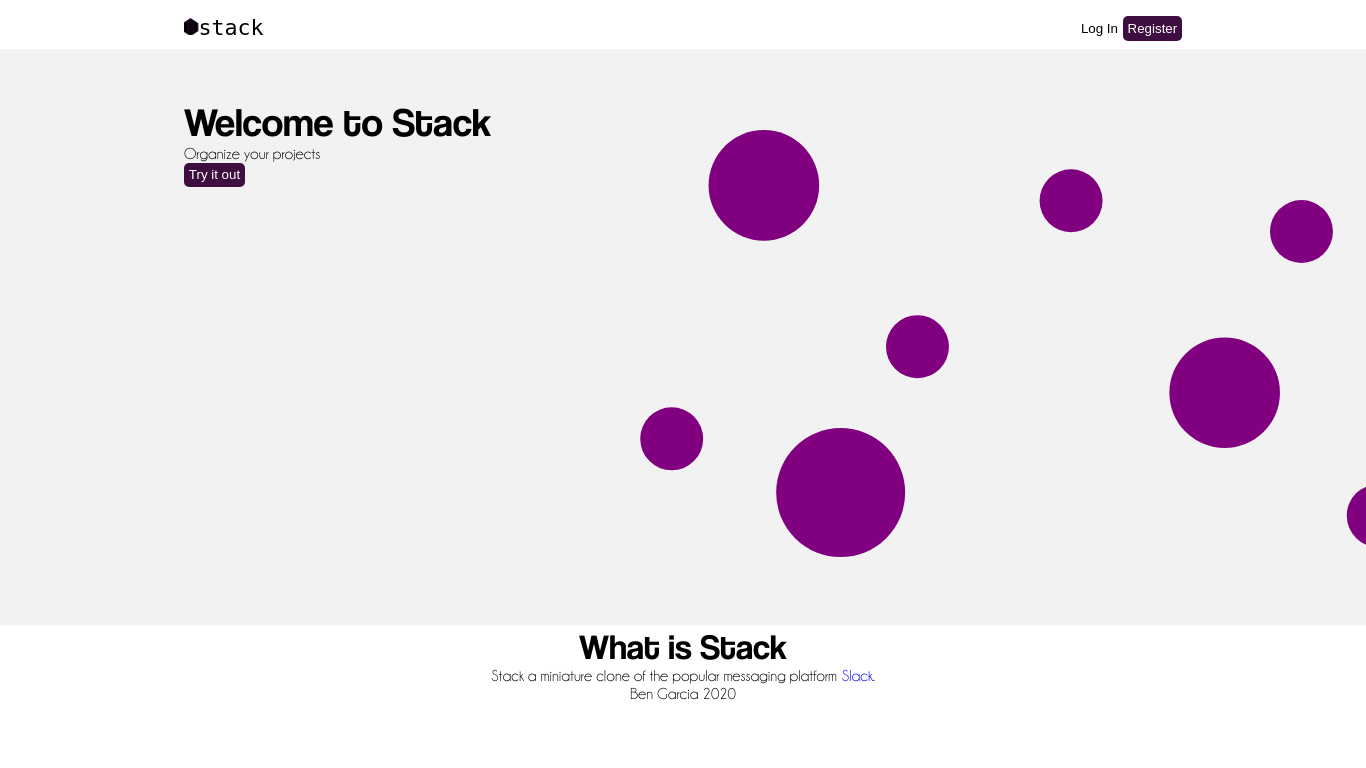
Test: Register › error messages › username › should show "required" messages
Click the button "Register". click: click(1153, 29)
box: [1123,16,1182,41]
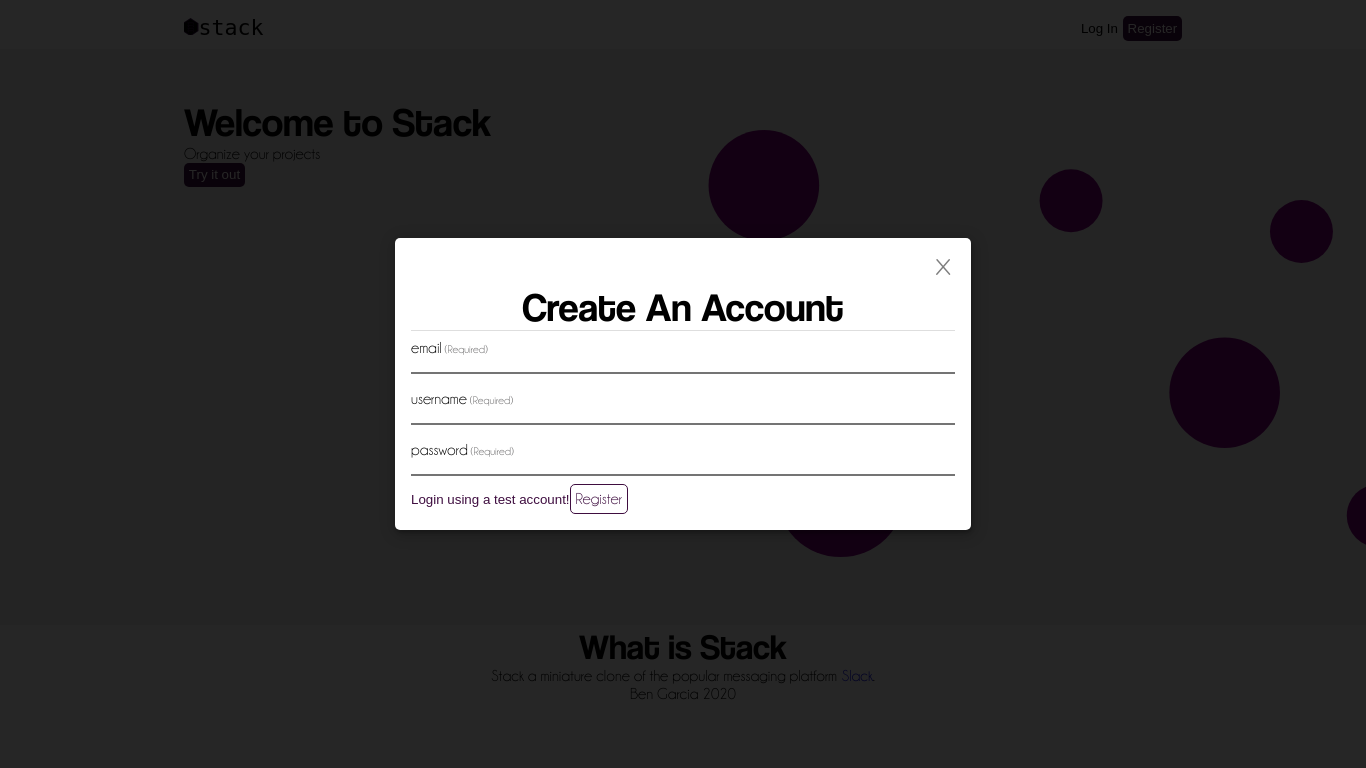
Focus the field named "username". click: (683, 417)
box: [411,408,955,425]
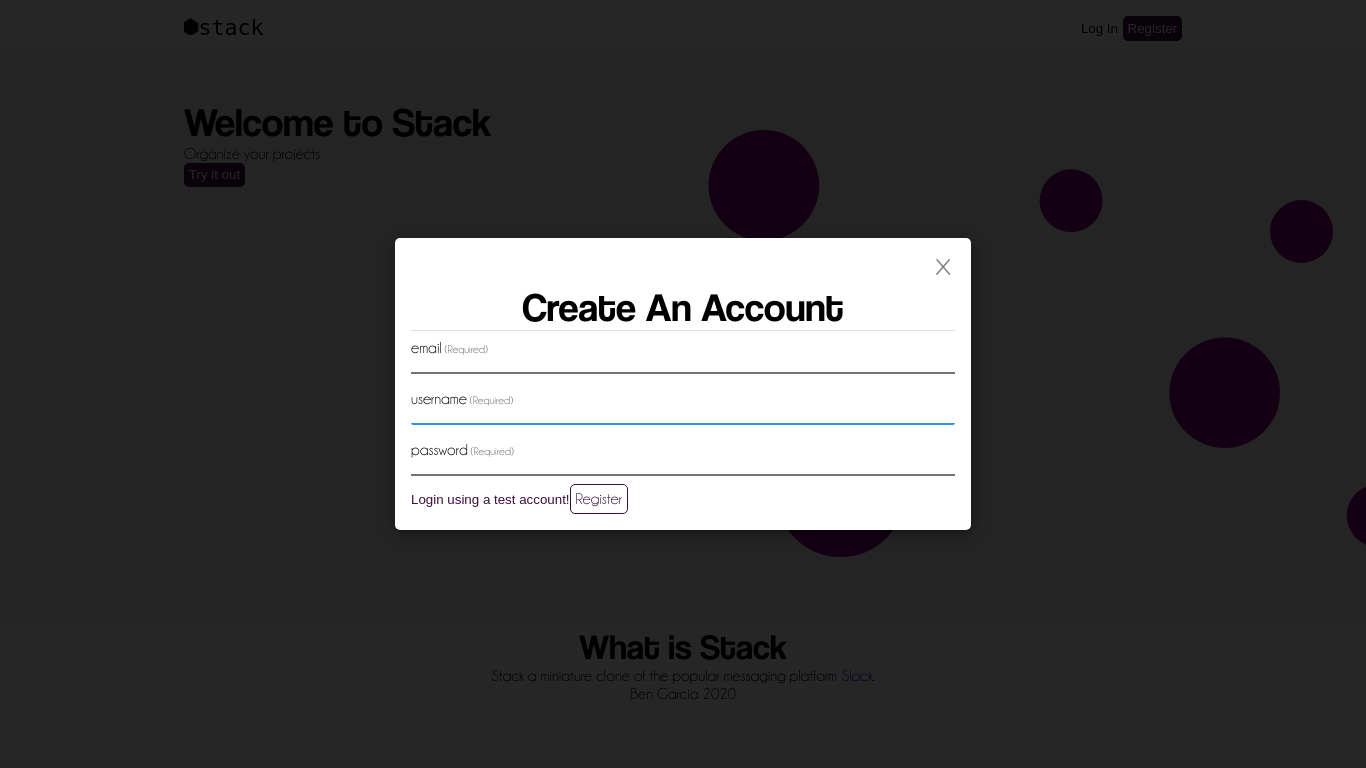
Leave the field named "username", box [411,408,955,425]
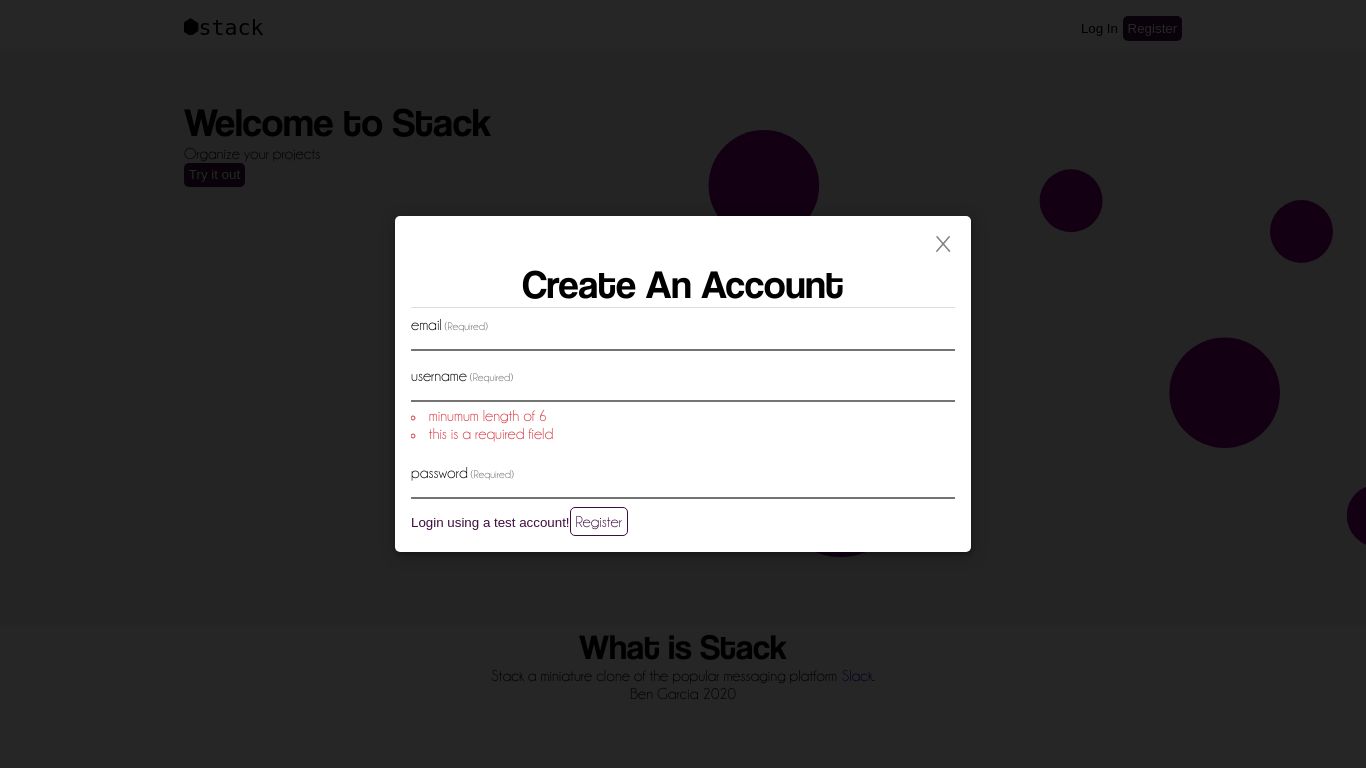
Expected: the text "this is a required field" is shown, [429,426,553,442]
Expected: the text "minumum length of 6" is shown, [429,408,547,424]
